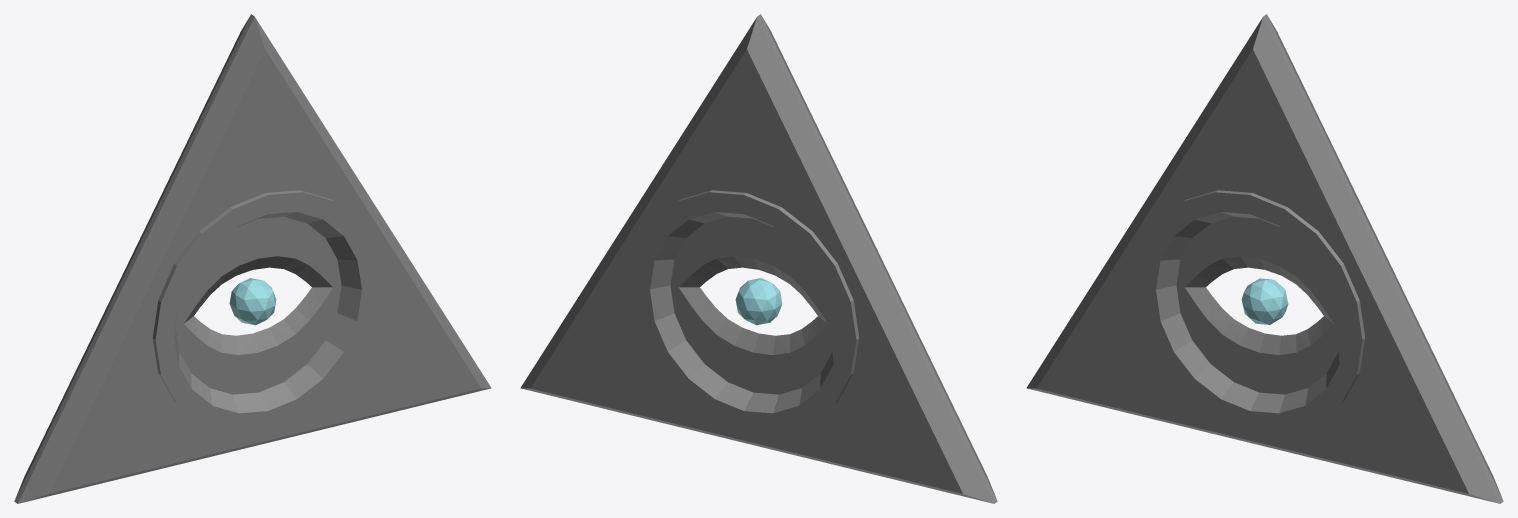
File: Illuminoid.dae
3 renders of one model, left to right at view 1: azimuth 30°, elevation 25°; view 2: azimuth 150°, elevation 25°; view 3: azimuth 330°, elevation 25°, orthographic.
Parts seen in each view (by area): view 1: Illuminoid; view 2: Illuminoid; view 3: Illuminoid.
Part boxes in pixels (x1=…): Illuminoid: x1=14, y1=14, x2=491, y2=503; Illuminoid: x1=520, y1=14, x2=997, y2=503; Illuminoid: x1=1026, y1=14, x2=1503, y2=503.
Size of the model in its own units: 1.71 by 0.1869 by 1.48.
